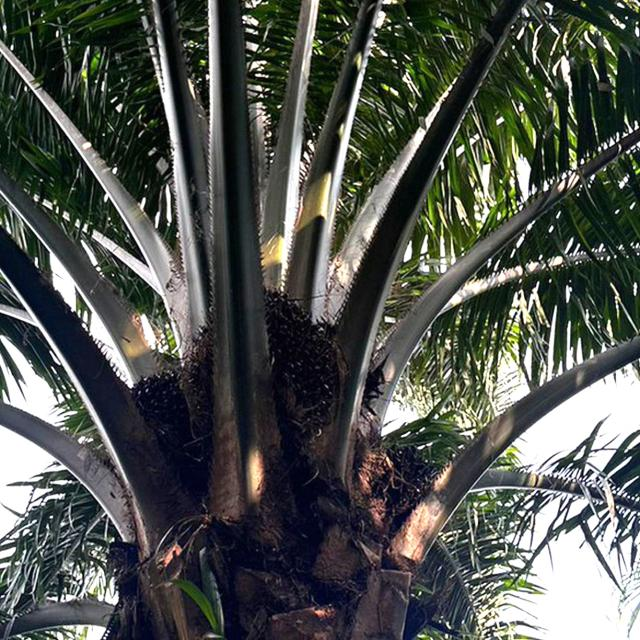unripe: (185, 279, 347, 456), (125, 360, 218, 498), (364, 439, 443, 526)
